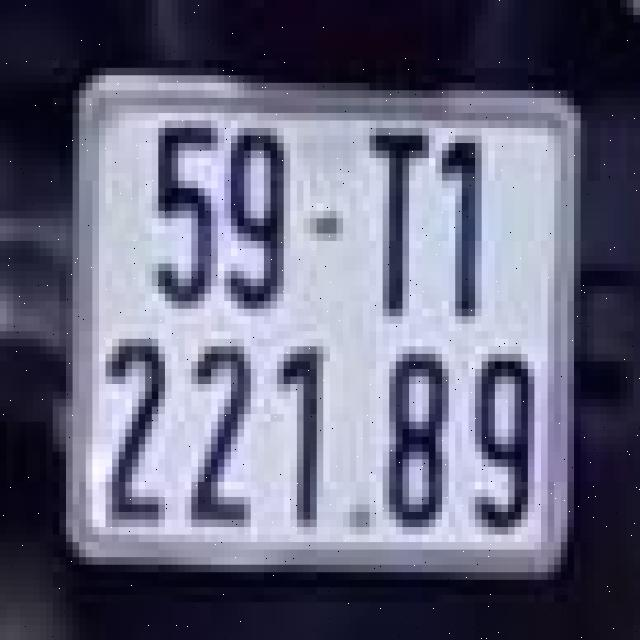1: (270, 335, 336, 546), (438, 116, 492, 328)
2: (181, 335, 254, 538), (102, 335, 175, 531)
5: (145, 109, 224, 320)
8: (369, 335, 448, 538)
9: (462, 346, 548, 542), (228, 117, 300, 320)
T: (360, 117, 432, 335)
